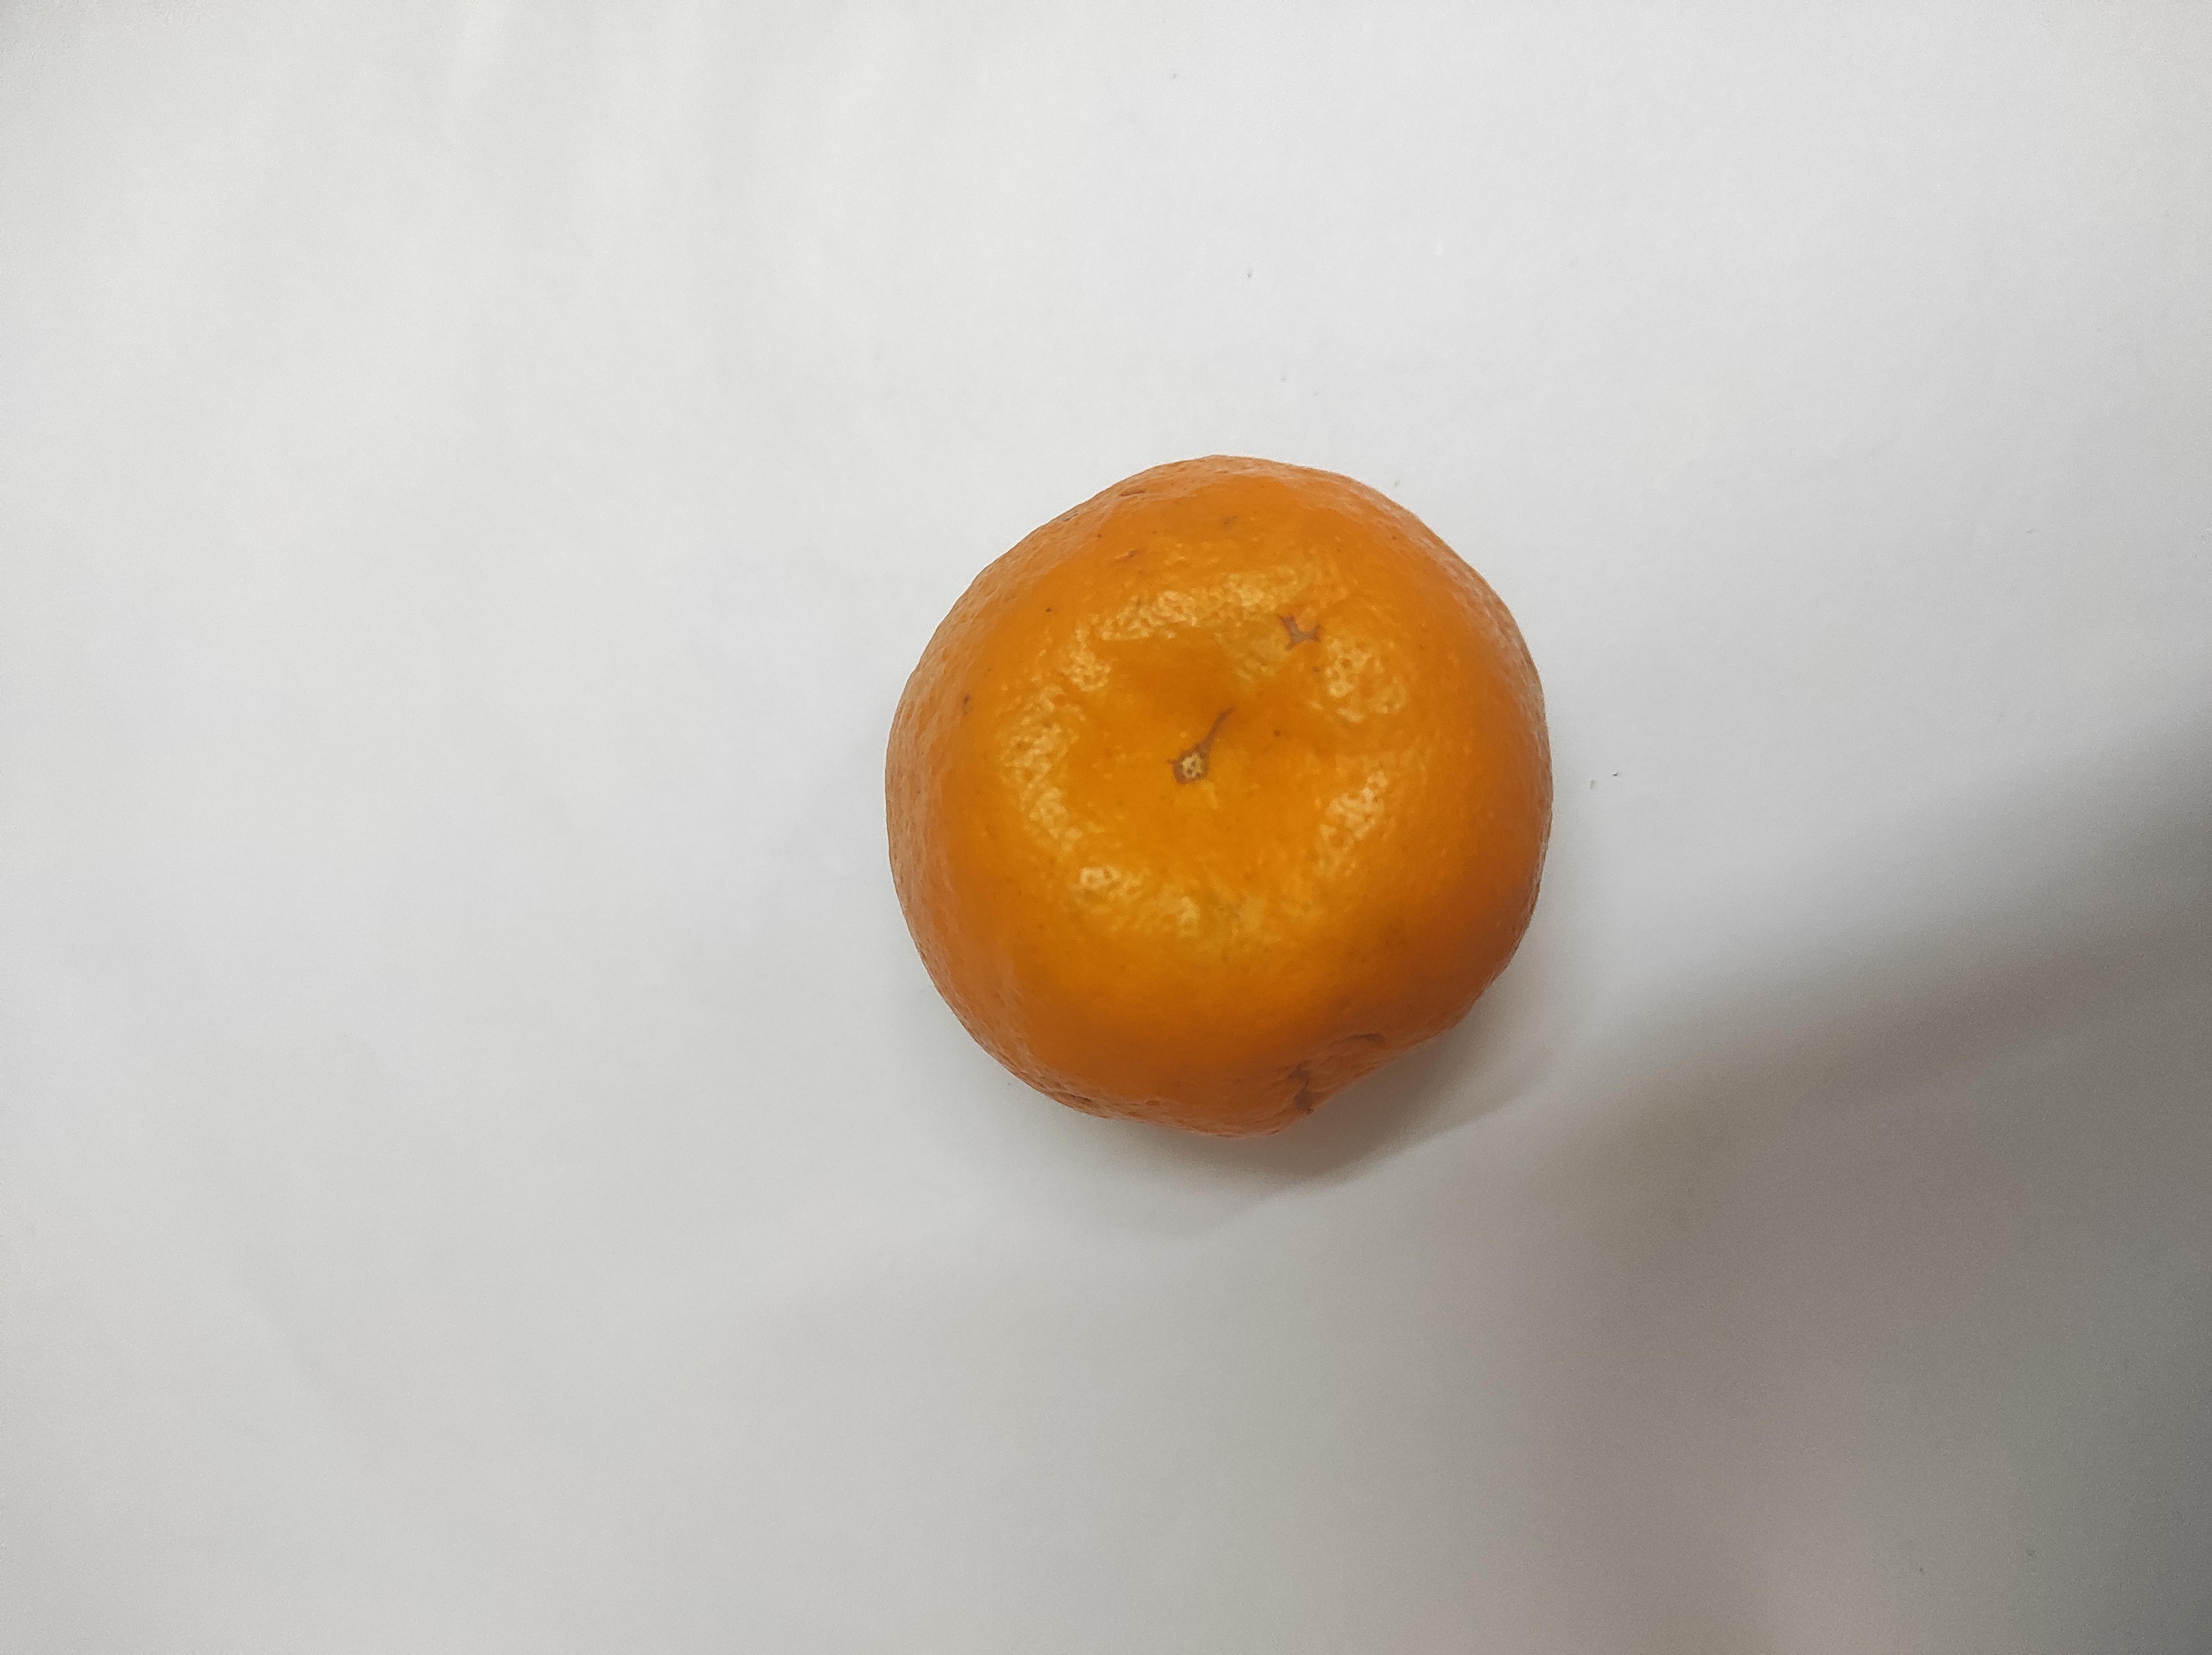Ripe: (868, 462, 1558, 1125)
